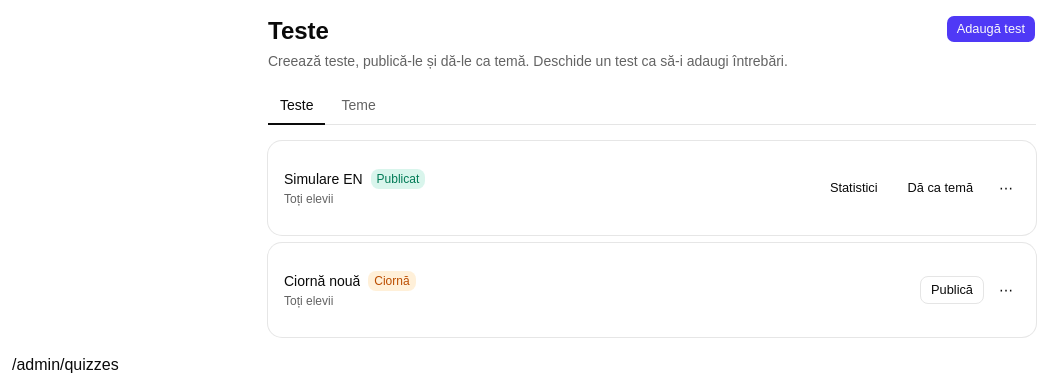
Scenario: AdminQuizzesPage › offers the other actions in the menu, deleting last
Click the button named "Mai multe acțiuni pentru Simulare EN": (1006, 188) [992,174,1020,202]
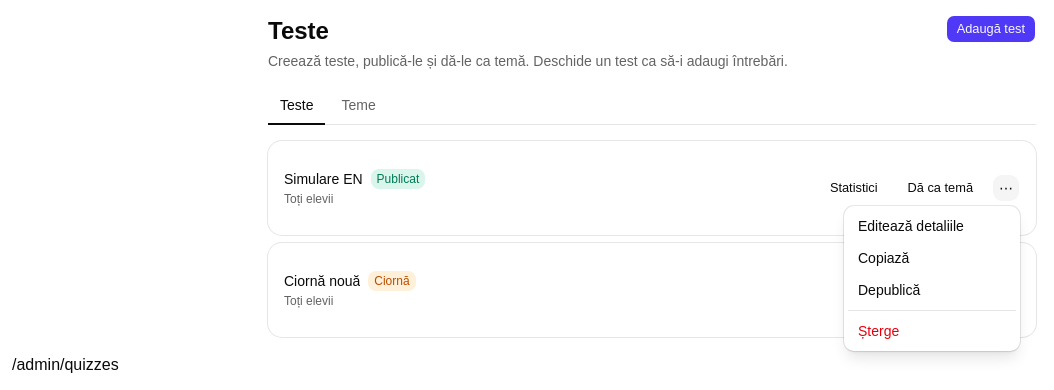
expect the menu items read "Editează detaliile", "Copiază", "Depublică", "Șterge", in this order: met, box [858,218,964,234]; [858,250,909,266]; [858,282,920,298]; [858,323,899,339]
